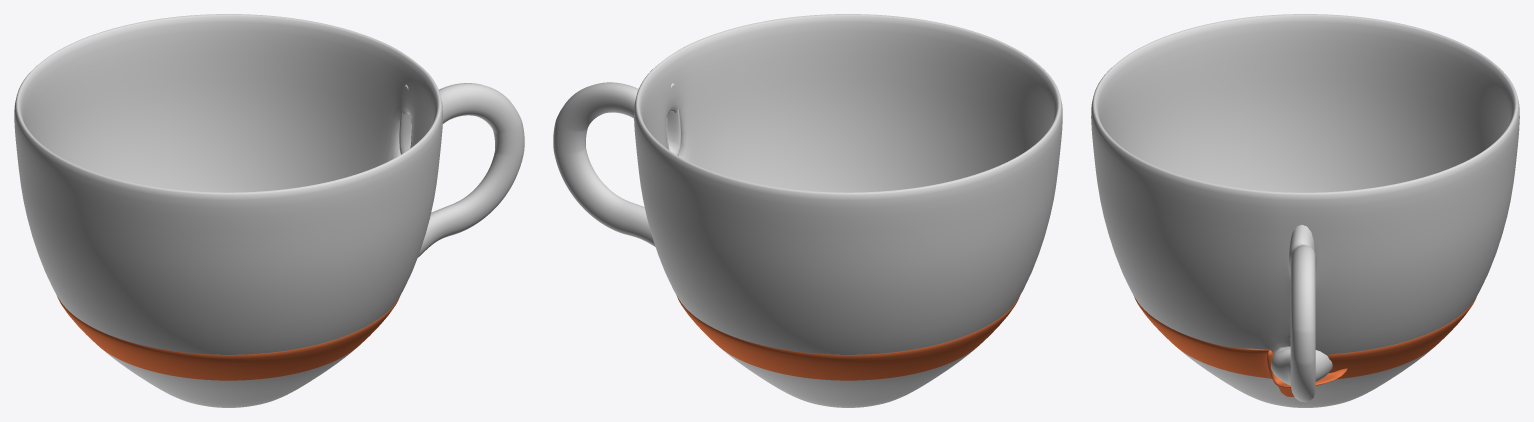
3 views of the same model, side by side, from view 1: azimuth 30°, elevation 25°; view 2: azimuth 150°, elevation 25°; view 3: azimuth 270°, elevation 25° (orthographic).
Visible parts, largest first — view 1: Cylinder, Cylinder.001; view 2: Cylinder, Cylinder.001; view 3: Cylinder, Cylinder.001.
Part boxes in pixels (box(x1,y1,x2,y2)): Cylinder: box(14, 14, 524, 407); Cylinder.001: box(57, 296, 399, 380); Cylinder: box(553, 14, 1062, 407); Cylinder.001: box(676, 295, 1020, 380); Cylinder: box(1091, 14, 1519, 407); Cylinder.001: box(1133, 295, 1477, 396).
Bounding box in the file's own units: 254 × 142 × 196.
